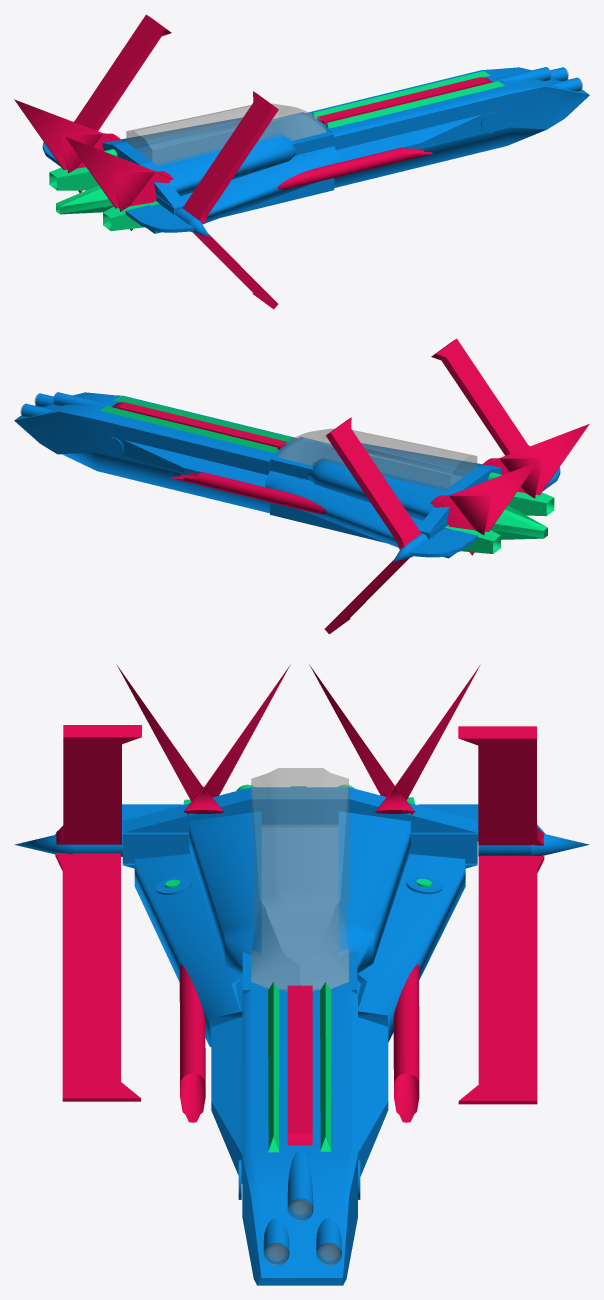
File: Ship Model Final.fbx
3 renders of one model, top to bottom at view 1: azimuth 30°, elevation 25°; view 2: azimuth 150°, elevation 25°; view 3: azimuth 270°, elevation 25°, orthographic. The views are drawn at different scales.
Visible parts, largest first — view 1: pCube1, pasted__pCube7 (×3), pCube3, pCube5, pasted__pCube3, pasted__pCone1 (×2), pCube2, pasted__pasted__pasted__pasted__pCylinder1, pCone1, pCube11, pasted__pPrism1, pasted__pCube10 (+7 smaller); view 2: pCube1, pCube3, pasted__pCube7 (×2), pCube5, pasted__pCube3, pasted__pCone1 (×2), pasted__pasted__pCone1, pasted__pCube2, pasted__pasted__pasted__pCylinder1, pCube11, pCube9, pPrism1 (+8 smaller); view 3: pCube3, pasted__pCube7 (×3), pCube1, pCube5, pasted__pCube3, pCube7, pasted__pCube6 (×2), pCube11, pCube2, pasted__pCube2, pasted__pasted__pasted__pCylinder1, pasted__pasted__pasted__pasted__pCylinder1 (+7 smaller).
Part boxes in pixels (x1,y1,x2,y2): pCube1: (306, 67, 589, 187); pasted__pCube7 (×3): (74, 14, 278, 309); pCube3: (140, 112, 339, 233); pCube5: (126, 103, 325, 166); pasted__pCube3: (121, 117, 311, 196); pasted__pCone1 (×2): (65, 137, 171, 230); pCube2: (336, 114, 482, 162); pasted__pasted__pasted__pasted__pCylinder1: (277, 147, 433, 189); pCone1: (14, 99, 121, 192); pCube11: (317, 77, 492, 124); pasted__pPrism1: (325, 81, 504, 128); pasted__pCube10: (125, 204, 193, 232); pCube1: (14, 392, 297, 513); pCube3: (265, 437, 463, 558); pasted__pCube7 (×2): (326, 338, 529, 549); pCube5: (278, 428, 477, 491); pasted__pCube3: (272, 443, 482, 520); pasted__pCone1 (×2): (485, 424, 589, 498); pasted__pasted__pCone1: (431, 461, 537, 555); pasted__pCube2: (124, 440, 267, 486); pasted__pasted__pasted__pCylinder1: (171, 472, 326, 514); pCube11: (112, 402, 286, 449); pCube9: (490, 505, 547, 539); pPrism1: (100, 406, 278, 453); pCube3: (134, 827, 465, 1046); pasted__pCube7 (×3): (55, 725, 543, 1101); pCube1: (242, 989, 357, 1285); pCube5: (251, 768, 348, 990); pasted__pCube3: (189, 811, 410, 1009); pCube7: (458, 856, 544, 1104); pasted__pCube6 (×2): (122, 787, 477, 863); pCube11: (287, 985, 312, 1145); pCube2: (211, 1017, 242, 1183); pasted__pCube2: (358, 1017, 388, 1176); pasted__pasted__pasted__pCylinder1: (393, 964, 419, 1122); pasted__pasted__pasted__pasted__pCylinder1: (179, 964, 205, 1122).
Bounding box in the file's own units: 8.73 × 3.26 × 4.49.
